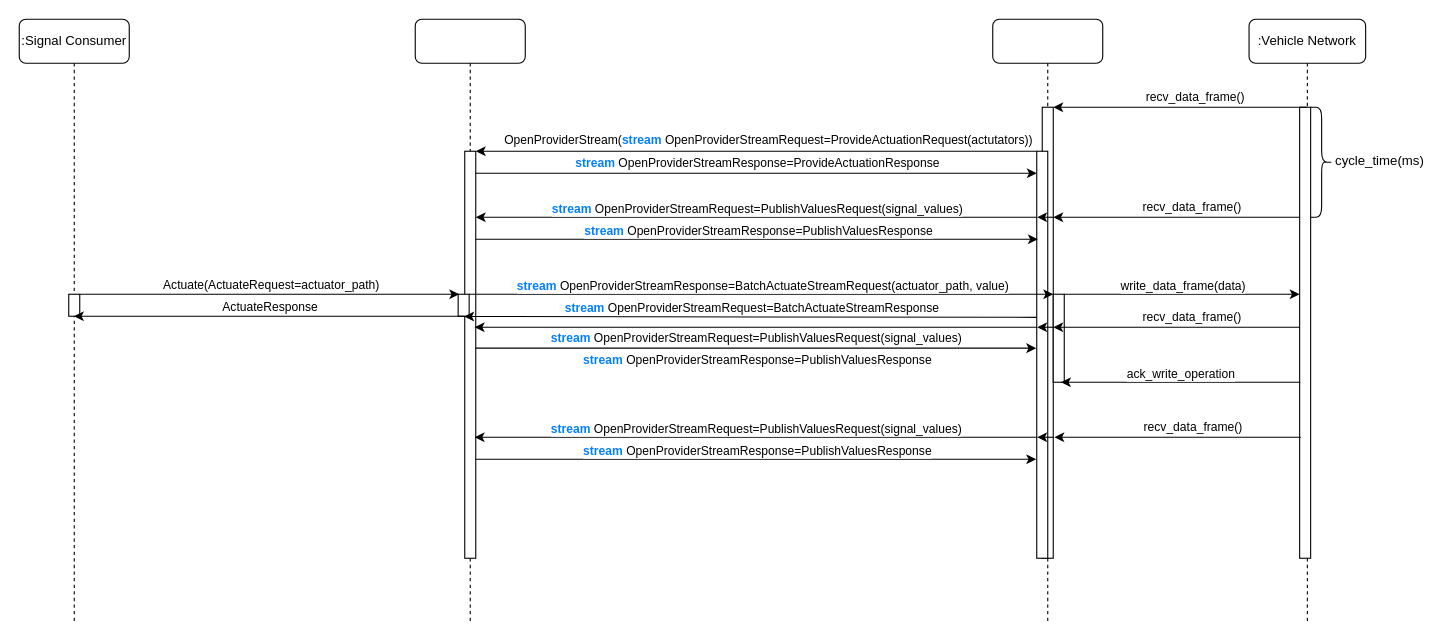
Some shapes in this 1443 by 644 pixel diagram are drawn without their labels. Each missing label, with the centre of its shape:
":DataBroker" goes at (x=469, y=321).
":Provider" goes at (x=1047, y=321).
